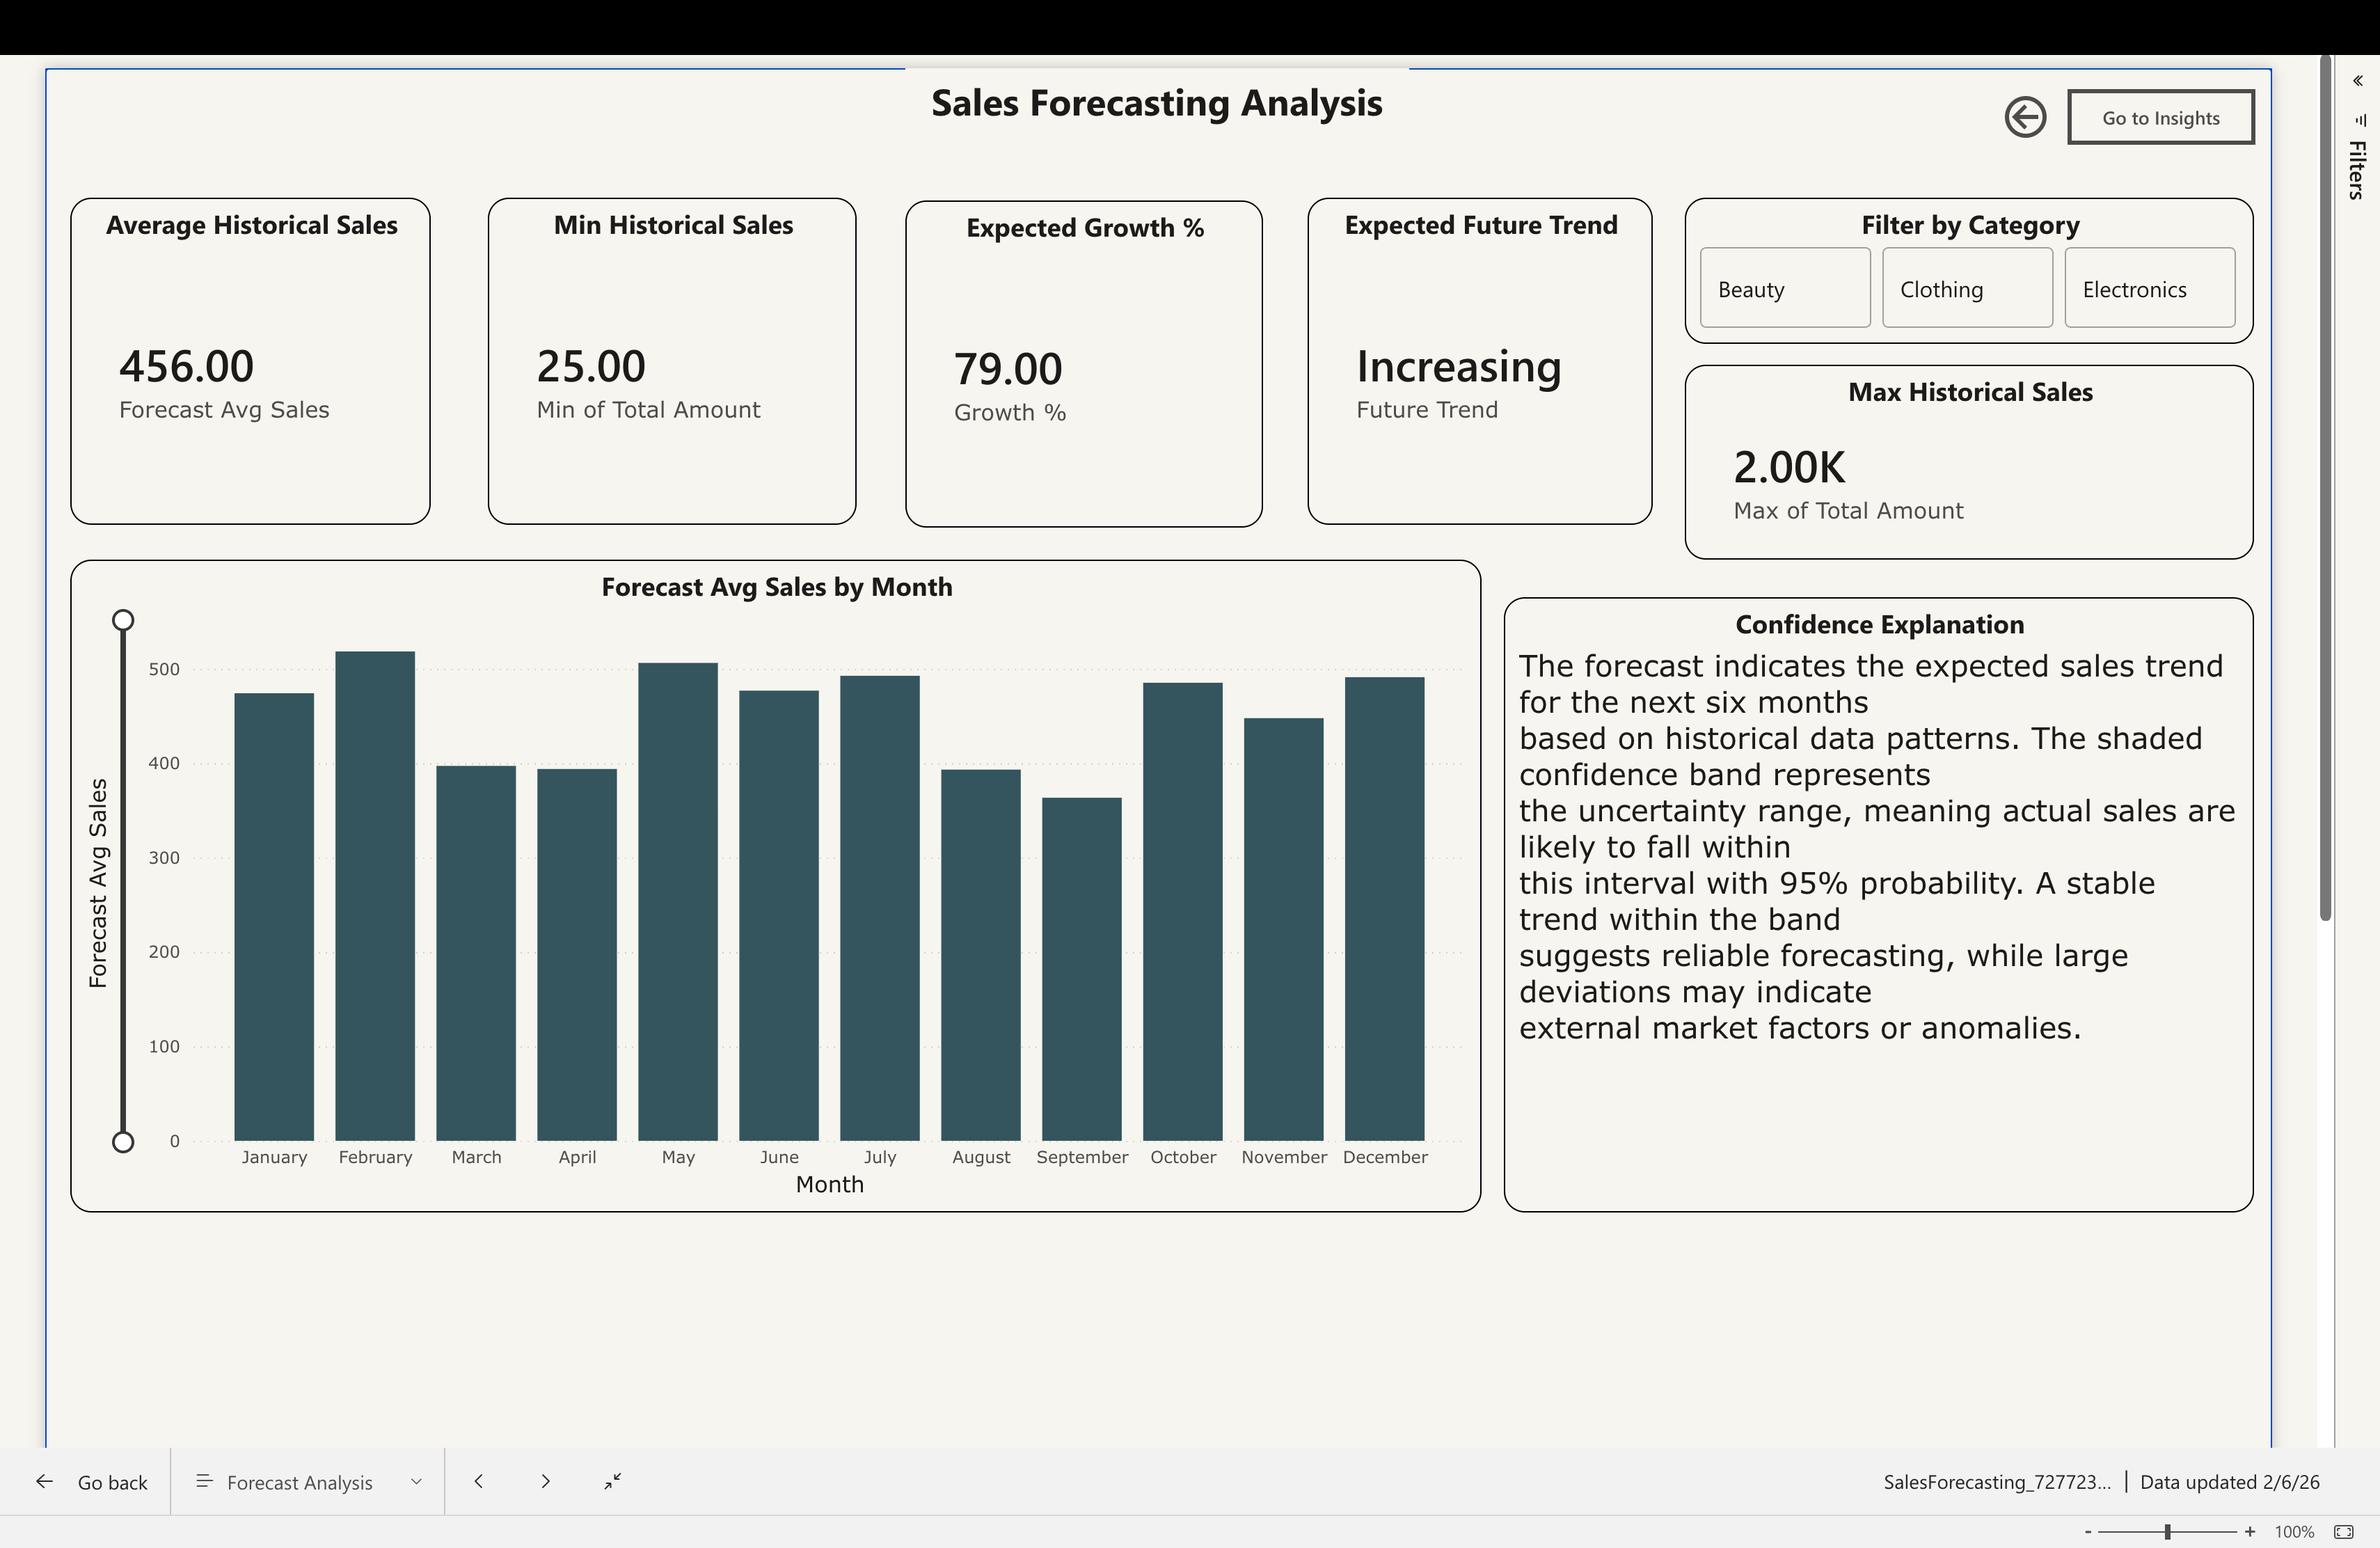

What the dashboard file says about the page in this screenshot:
{"tool":"powerbi","page":{"name":"Forecast Analysis","canvas":[1600,1600],"ordinal":1},"visuals":[{"type":"textbox","box":[618.3,0,361.7,56.7],"z":0},{"type":"clusteredColumnChart","fields":{"Category":["retail_sales_dataset.Date.Variation.Date Hierarchy.Month"],"Y":["retail_sales_dataset.Forecast Avg Sales"]},"box":[18.3,353.3,1013.3,468.3],"z":1000},{"type":"textbox","title":"Confidence Explanation","box":[1048.3,380,538.3,441.7],"z":2000},{"type":"cardVisual","title":"Average Historical Sales","fields":{"Data":["retail_sales_dataset.Forecast Avg Sales"]},"box":[18.3,93.3,258.3,235],"z":3000},{"type":"cardVisual","title":"Max Historical Sales","fields":{"Data":["Max(retail_sales_dataset.Total Amount)"]},"box":[1178.3,213.3,408.3,140],"z":4000},{"type":"cardVisual","title":"Min Historical Sales","fields":{"Data":["Min(retail_sales_dataset.Total Amount)"]},"box":[318.3,93.3,265,235],"z":5000},{"type":"cardVisual","title":"Expected Growth %","fields":{"Data":["retail_sales_dataset.Growth %"]},"box":[618.3,95,256.7,235],"z":6000},{"type":"cardVisual","title":"Expected Future Trend","fields":{"Data":["retail_sales_dataset.Future Trend"]},"box":[906.7,93.3,248.3,235],"z":7000},{"type":"advancedSlicerVisual","title":"Filter by Category","fields":{"Values":["retail_sales_dataset.Product Category"]},"box":[1178.3,93.3,408.3,105],"z":8000},{"type":"actionButton","box":[1453.3,15,135,40],"z":9000},{"type":"actionButton","box":[1403.3,15,50,40],"z":10000}]}

Visuals, with their boxes on the page's 1600x1600 design canvas (x1, y1, x2, y2). These are canvas units, not pixel positions in the 2380x1548 screenshot, which may show the page scaled, cropped or inside an application window:
textbox: {"x1": 618, "y1": 0, "x2": 980, "y2": 57}
clusteredColumnChart - retail_sales_dataset.Date.Variation.Date Hierarchy.Month x retail_sales_dataset.Forecast Avg Sales: {"x1": 18, "y1": 353, "x2": 1032, "y2": 822}
"Confidence Explanation" textbox: {"x1": 1048, "y1": 380, "x2": 1587, "y2": 822}
"Average Historical Sales" cardVisual: {"x1": 18, "y1": 93, "x2": 277, "y2": 328}
"Max Historical Sales" cardVisual: {"x1": 1178, "y1": 213, "x2": 1587, "y2": 353}
"Min Historical Sales" cardVisual: {"x1": 318, "y1": 93, "x2": 583, "y2": 328}
"Expected Growth %" cardVisual: {"x1": 618, "y1": 95, "x2": 875, "y2": 330}
"Expected Future Trend" cardVisual: {"x1": 907, "y1": 93, "x2": 1155, "y2": 328}
"Filter by Category" advancedSlicerVisual: {"x1": 1178, "y1": 93, "x2": 1587, "y2": 198}
actionButton: {"x1": 1453, "y1": 15, "x2": 1588, "y2": 55}
actionButton: {"x1": 1403, "y1": 15, "x2": 1453, "y2": 55}
